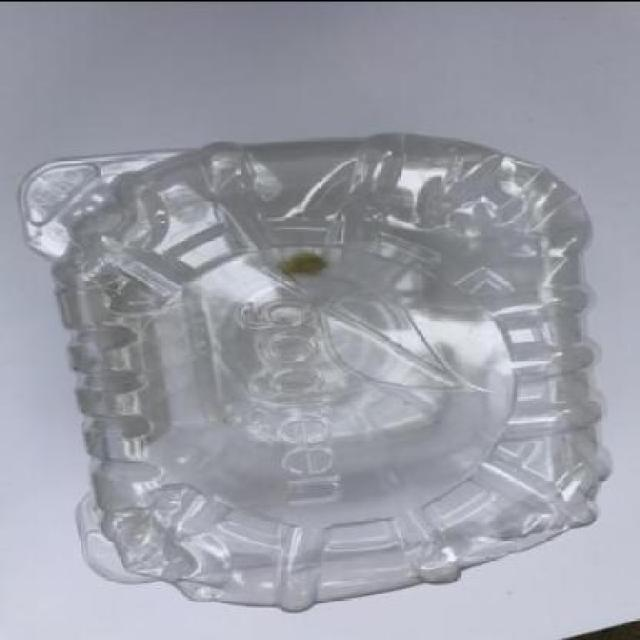PLASTIC: (14, 132, 606, 612)
